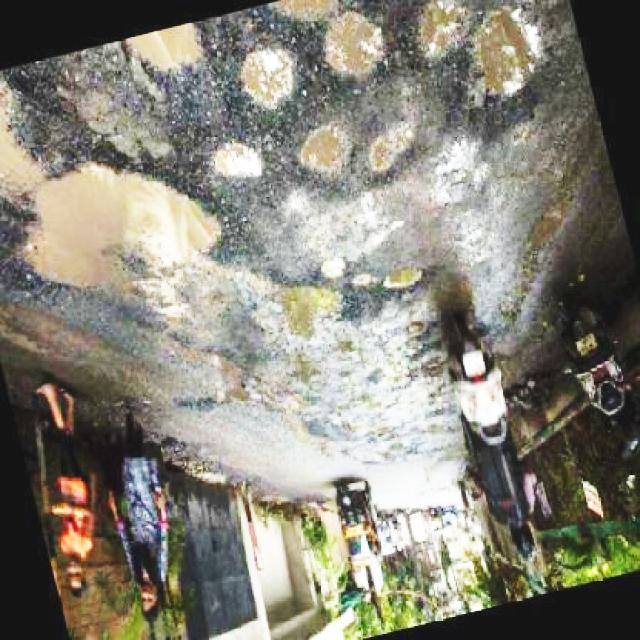pothole: (15, 139, 228, 303), (417, 0, 548, 103), (267, 0, 392, 78), (256, 269, 350, 348), (189, 343, 266, 417), (120, 21, 214, 74), (0, 77, 38, 206), (237, 46, 300, 112), (518, 202, 570, 268), (366, 122, 419, 182), (211, 136, 272, 187), (298, 124, 354, 178), (323, 252, 375, 297), (384, 260, 430, 295), (403, 318, 439, 342)
